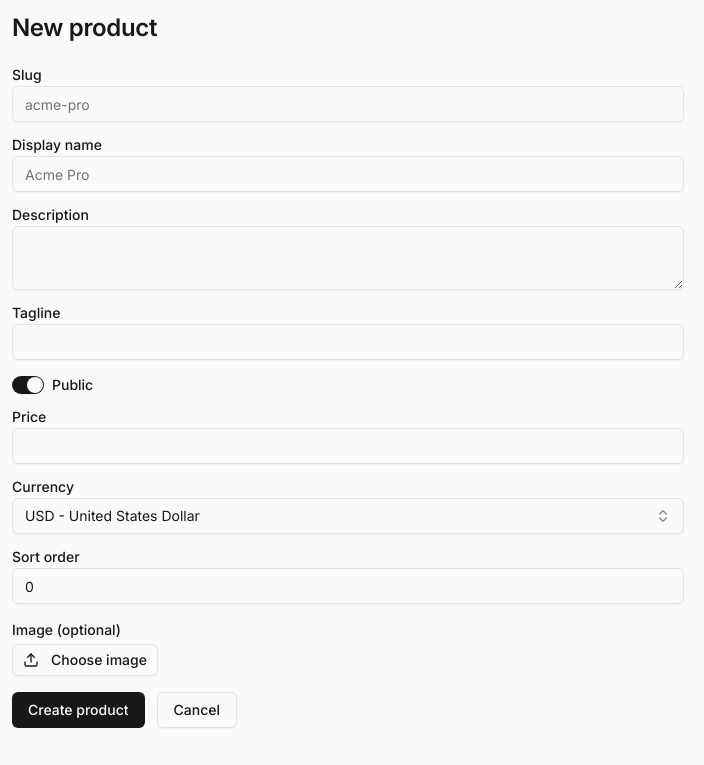
Scenario: AdminProductNewRoute › shows a slug format error when the slug contains invalid characters
The image size is (704, 765).
Type "Bad Slug" into the field labelled "Slug".
click(348, 104); type("Bad Slug")  # box [12,86,684,122]
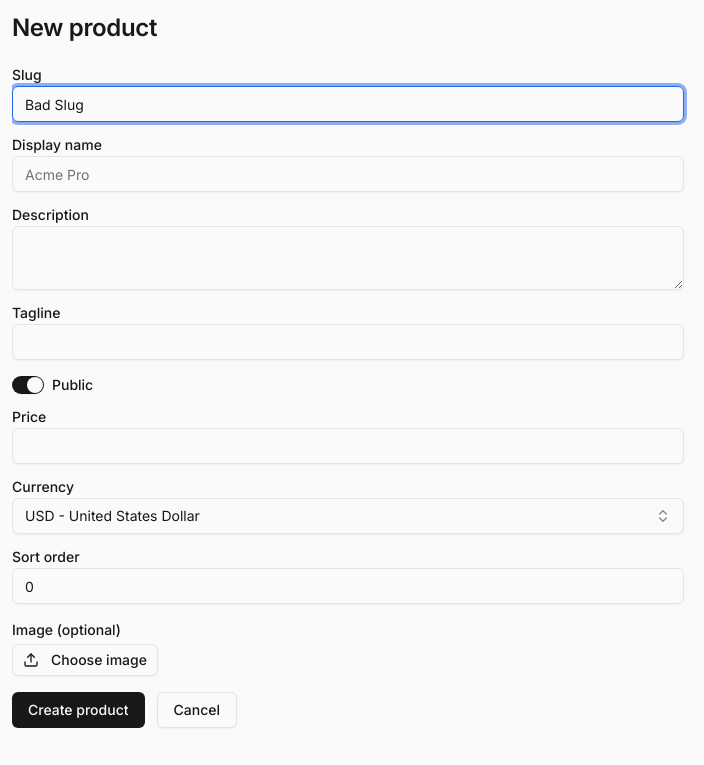
Type "Acme" into the field labelled "Display name".
click(348, 174); type("Acme")  # box [12,156,684,192]
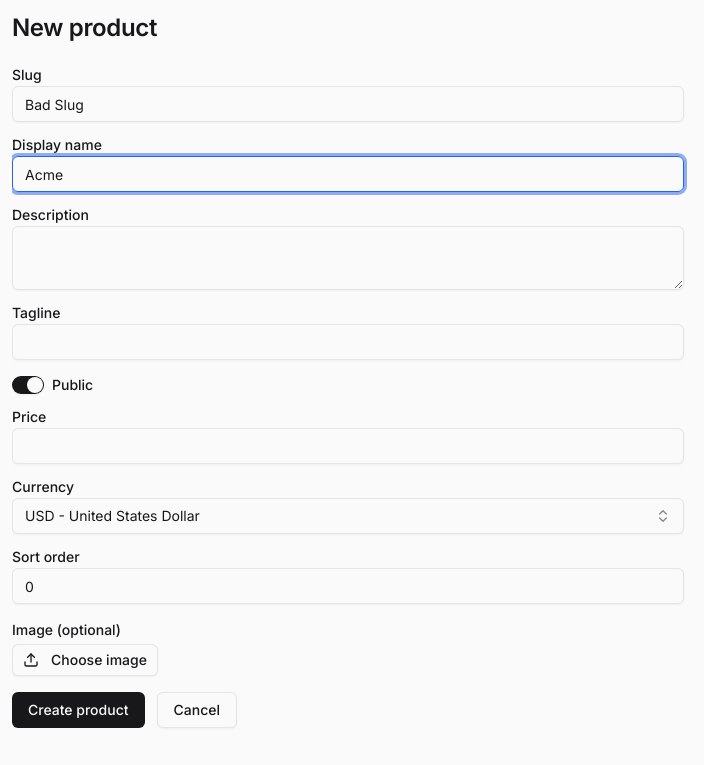
Click the button "Create product".
click(78, 710)  # box [12,692,144,728]
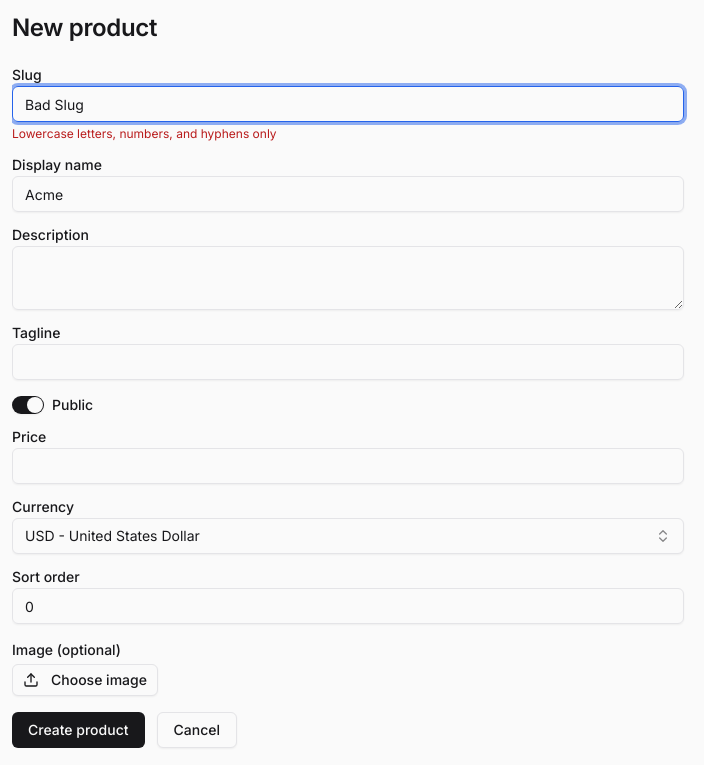
Expected: the text "Lowercase letters, numbers, and hyphens only" is shown, [12,126,277,141]
